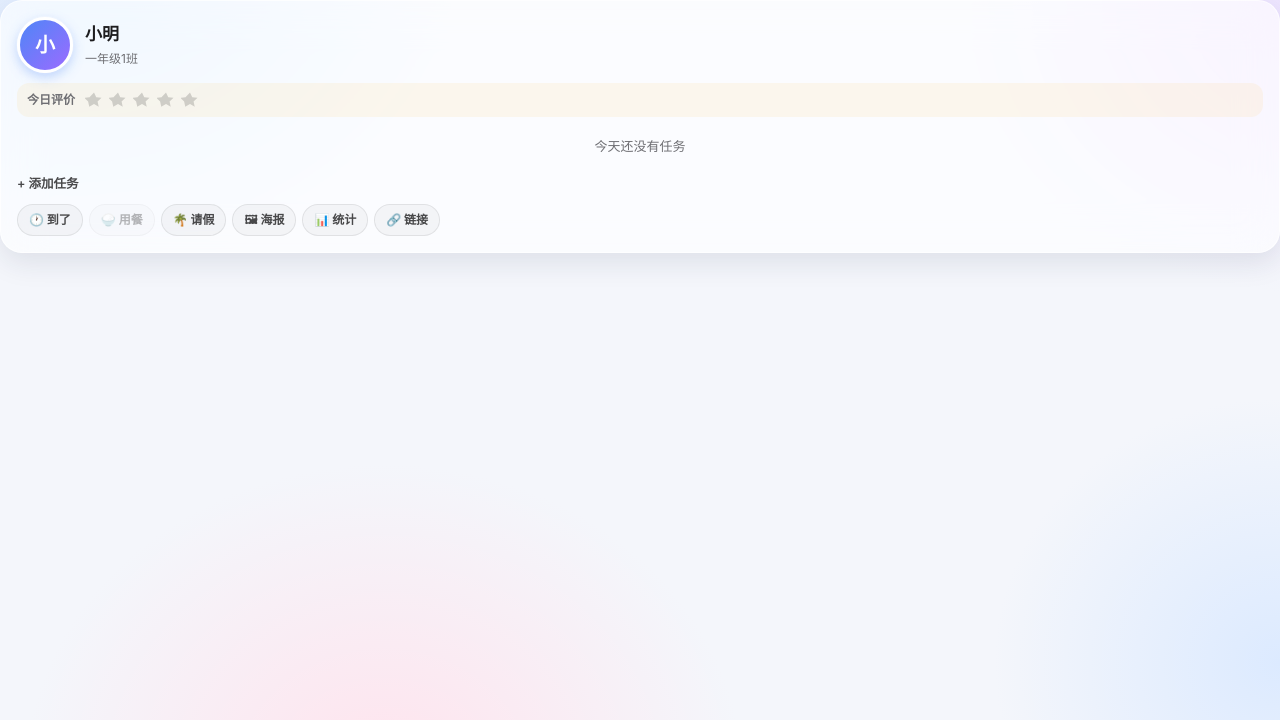
Test: StudentCard share-link button › opens the ShareLinkModal showing the student-specific title when the 链接 chip is clicked
Click the button "🔗 链接": point(407, 220) [374, 204, 440, 236]
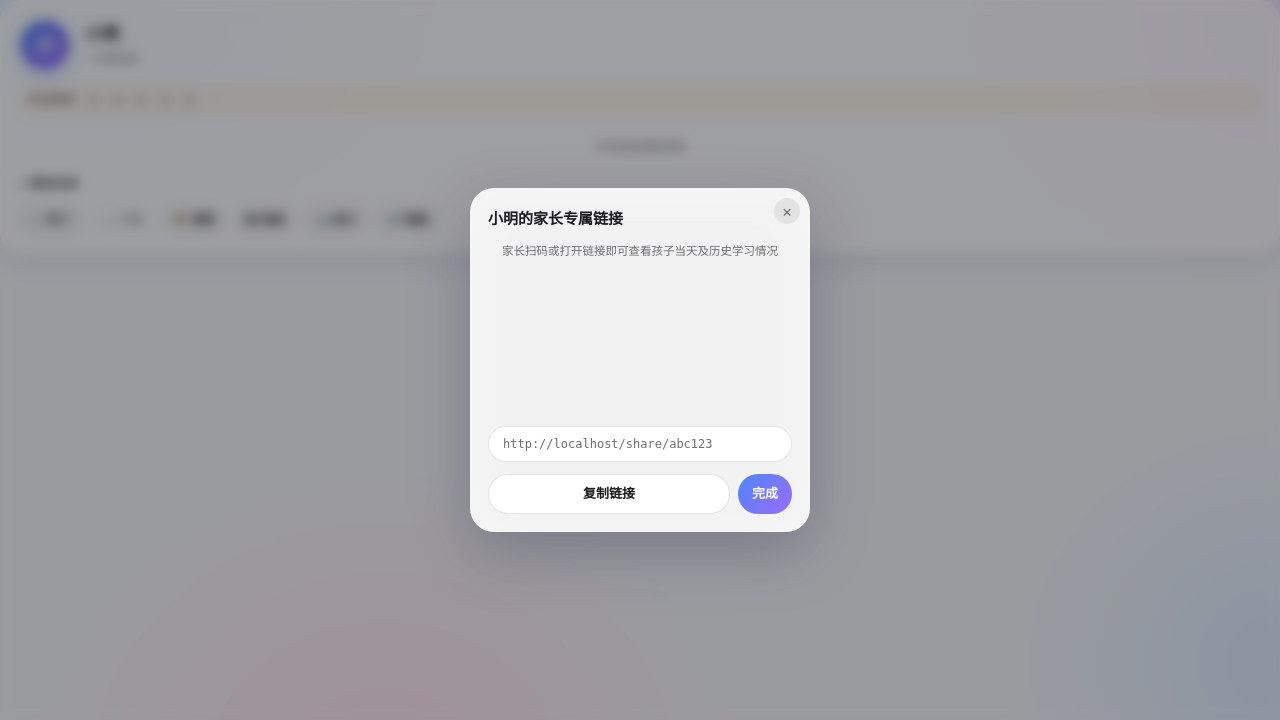
expect the text "小明的家长专属链接" is shown: met, box [488, 209, 623, 228]
